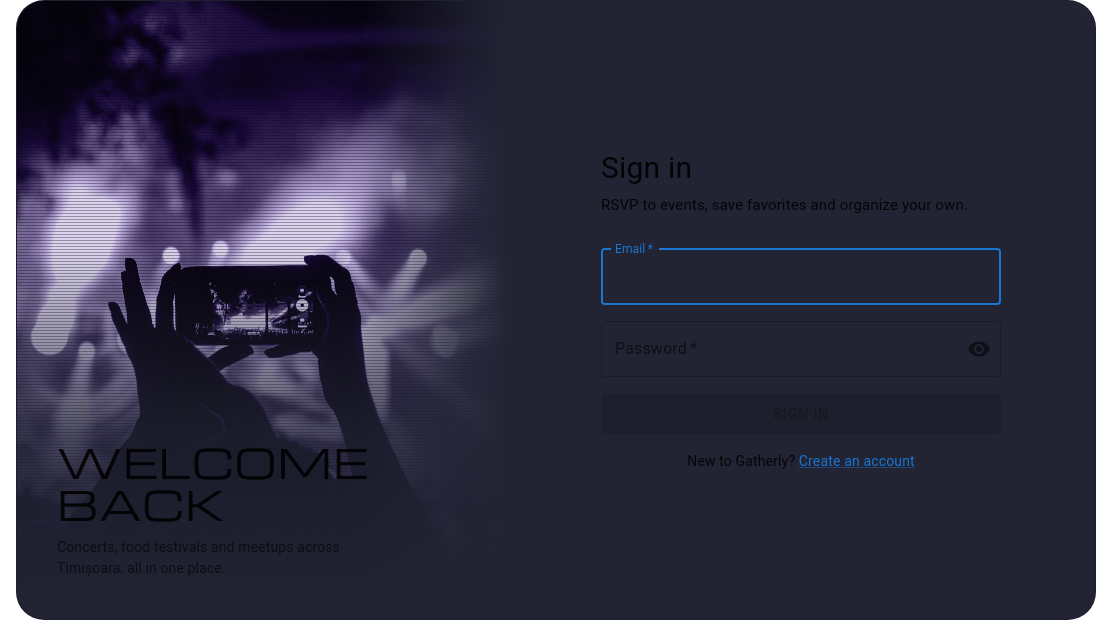
it: LoginPage › shows the API error on bad credentials
Type "a@b.co" into the field labelled "Email *".
click(801, 277); type("a@b.co")  # box [601, 249, 1001, 305]
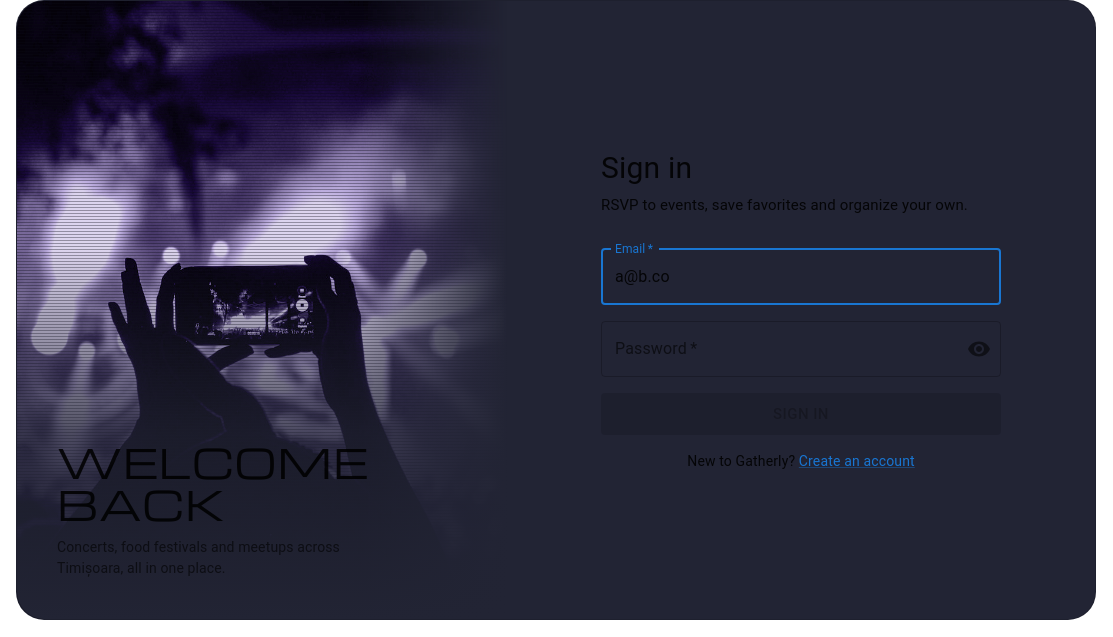
Type "wrong" into the password field labelled "Password *".
click(776, 349); type("wrong")  # box [601, 321, 951, 377]
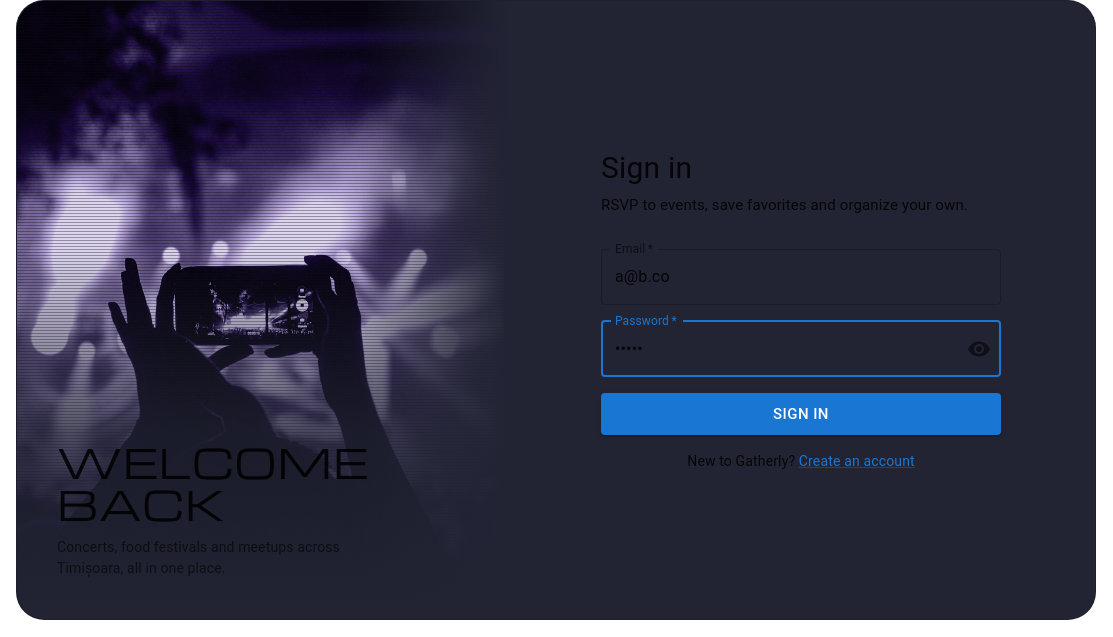
Click the button "Sign in".
click(801, 414)  # box [601, 393, 1001, 435]
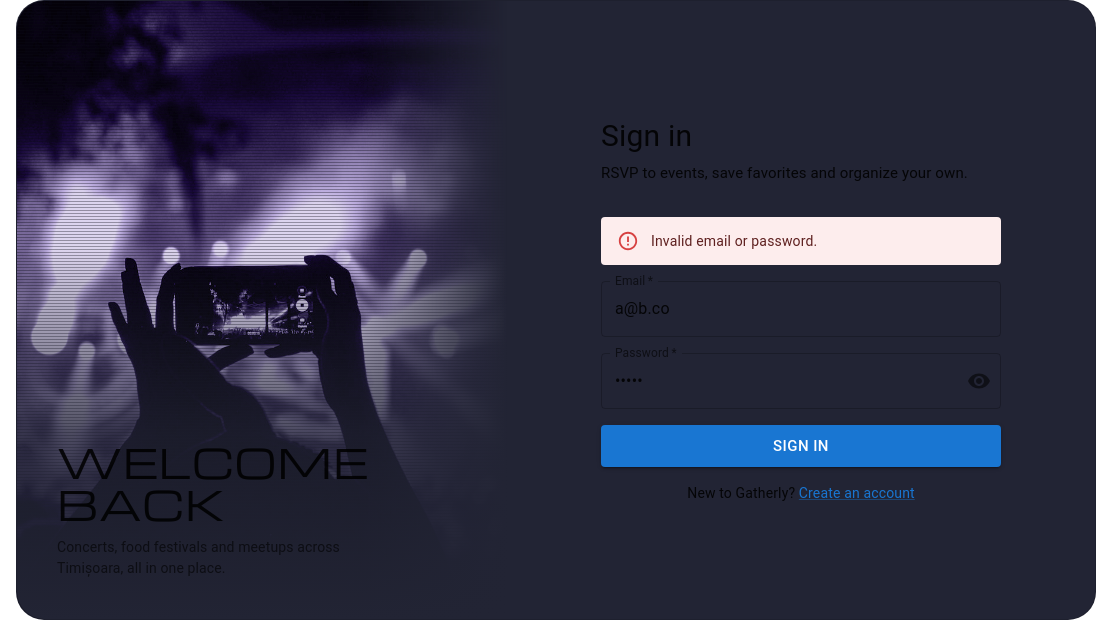
Now the message reads "Invalid email or password.", box [651, 233, 817, 249]
